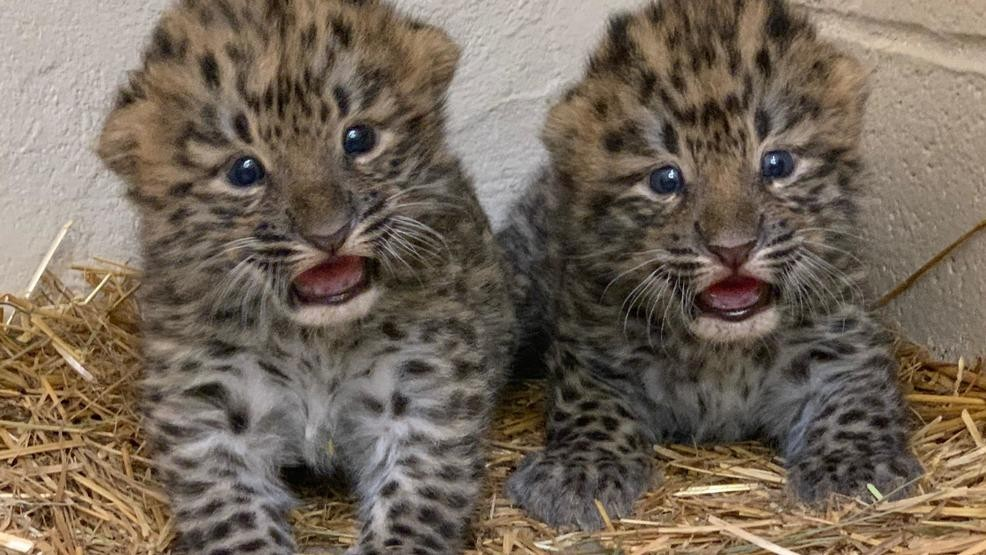amur_leopard: (67, 5, 506, 355), (547, 7, 910, 354)
